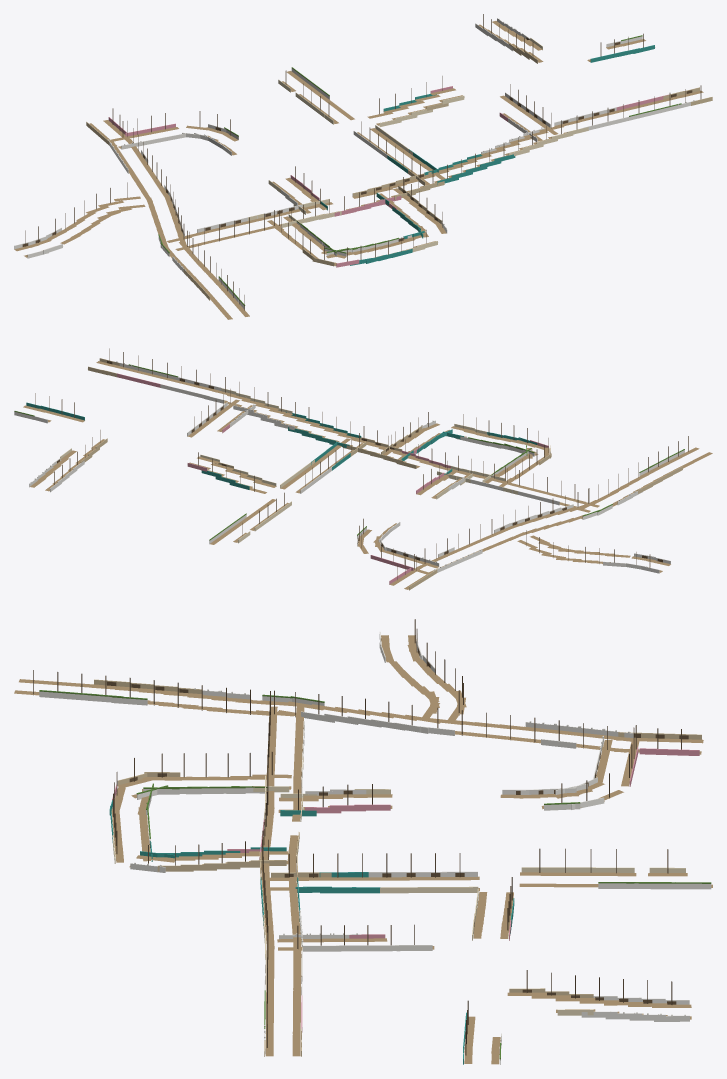
File: noord_res_-13_-10.glb
3 renders of one model, top to bottom at view 1: azimuth 30°, elevation 25°; view 2: azimuth 150°, elevation 25°; view 3: azimuth 270°, elevation 25°, orthographic. The views are drawn at different scales.
Visible parts, largest first — view 1: noord_res_-13_-10_lod0; view 2: noord_res_-13_-10_lod0; view 3: noord_res_-13_-10_lod0.
Boxes of the visible parts, x1=… form: noord_res_-13_-10_lod0: x1=14, y1=14, x2=712, y2=319; noord_res_-13_-10_lod0: x1=14, y1=348, x2=712, y2=590; noord_res_-13_-10_lod0: x1=14, y1=619, x2=712, y2=1064.
Size of what is drawn, in the model's own units: 339 by 23.2 by 212.
